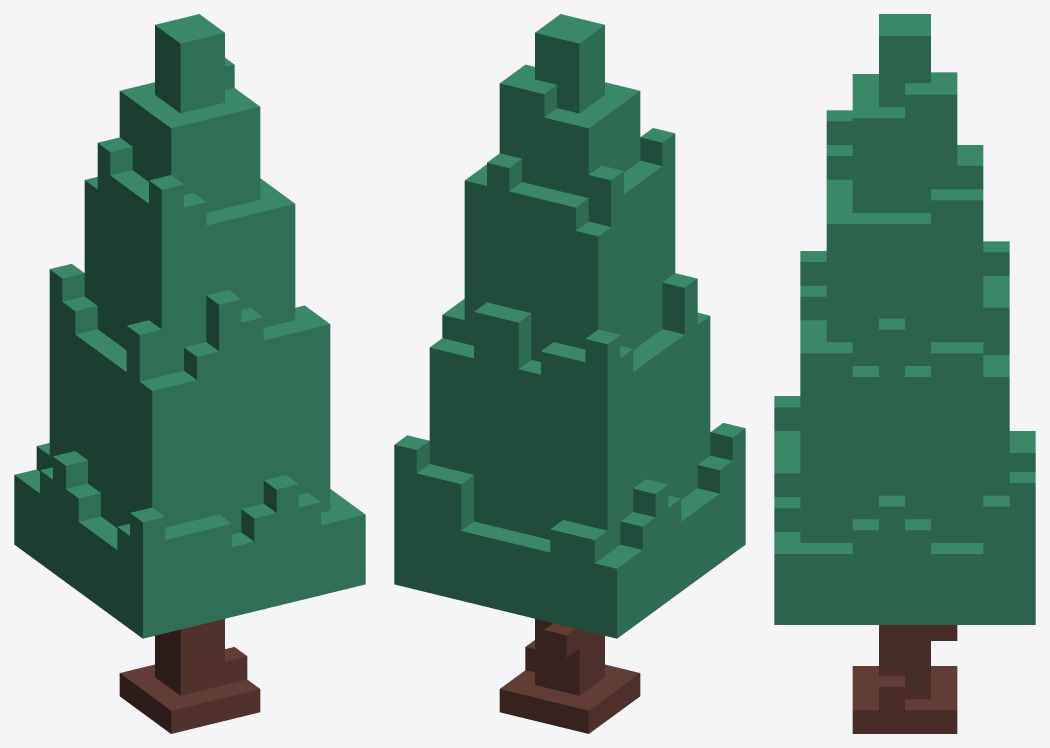
Rendered from tree.gltf.
The picture shows the model from 3 angles, left to right: view 1: azimuth 30°, elevation 25°; view 2: azimuth 150°, elevation 25°; view 3: azimuth 270°, elevation 25°; orthographic projection.
Bounding box in the file's own units: 10 × 29 × 10.
1 material, 1 textured.
